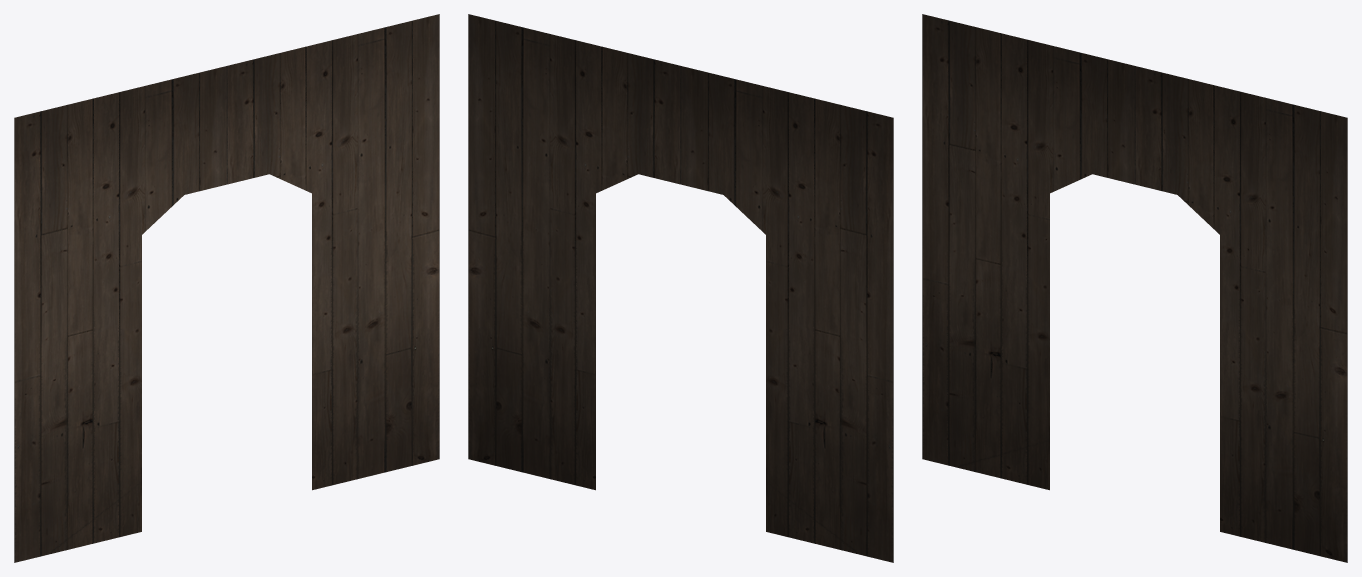
File: Wall.W_3x3_Archway.Small.fbx
The picture shows the model from 3 angles, left to right: view 1: azimuth 30°, elevation 25°; view 2: azimuth 150°, elevation 25°; view 3: azimuth 330°, elevation 25°; orthographic projection.
Parts seen in each view (by area): view 1: Wall.W_3x3_Archway.Small; view 2: Wall.W_3x3_Archway.Small; view 3: Wall.W_3x3_Archway.Small.
Part boxes in pixels (x1=…): Wall.W_3x3_Archway.Small: x1=14, y1=14, x2=439, y2=562; Wall.W_3x3_Archway.Small: x1=468, y1=14, x2=893, y2=562; Wall.W_3x3_Archway.Small: x1=922, y1=14, x2=1347, y2=562.
Size of the model in its own units: 300 by 300 by 4.01e-05.
